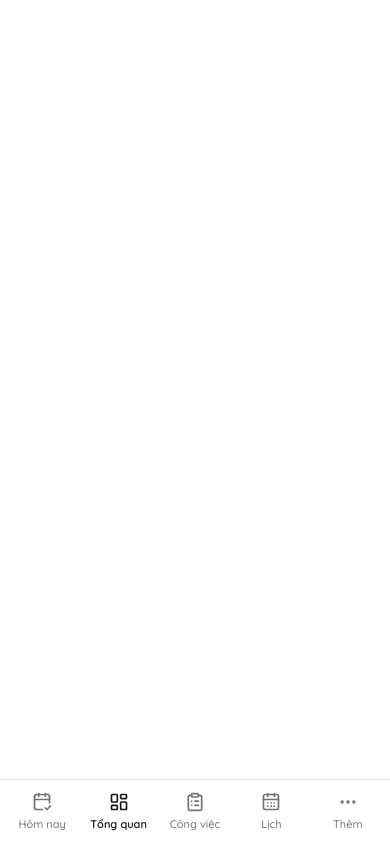
Test: MobileBottomNav Component › renders admin links in More sheet for HEAD role
The width and height of the screenshot is (390, 844).
Step 1. Click the button "Thêm" → click(348, 812), box [310,780,386,843]
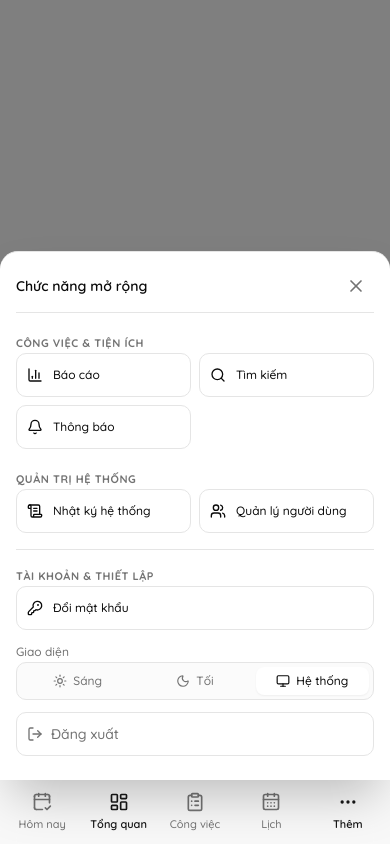
Now the link "Nhật ký hệ thống" is shown, box [16,489,191,533]
Now the link "Quản lý người dùng" is shown, box [199,489,374,533]
